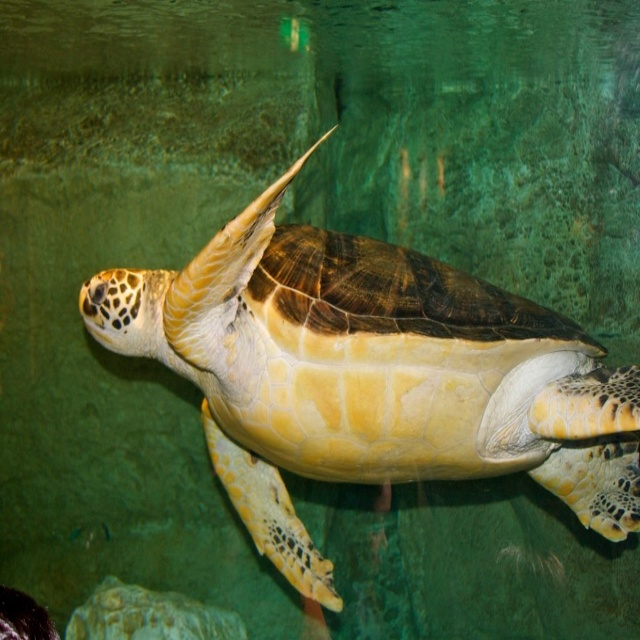Sea turtle: (75, 120, 639, 615)
